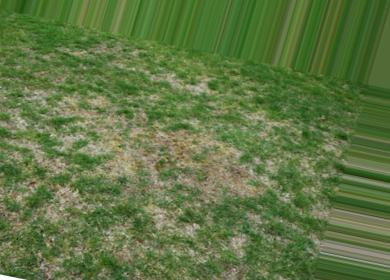patch: (204, 144, 269, 186), (124, 134, 160, 198), (94, 96, 121, 119), (62, 194, 86, 219), (77, 127, 97, 149), (178, 82, 215, 93)
